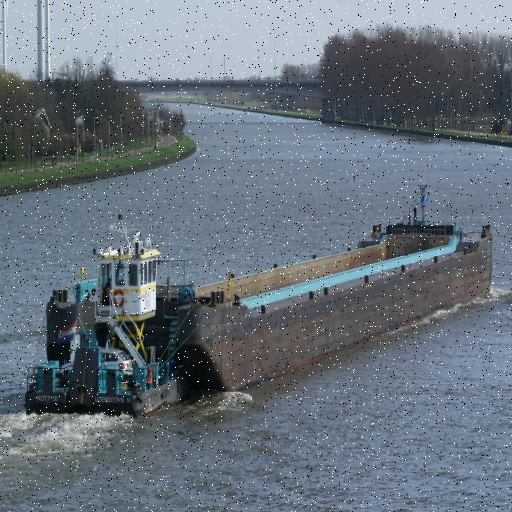tugboat: (23, 214, 200, 428)
